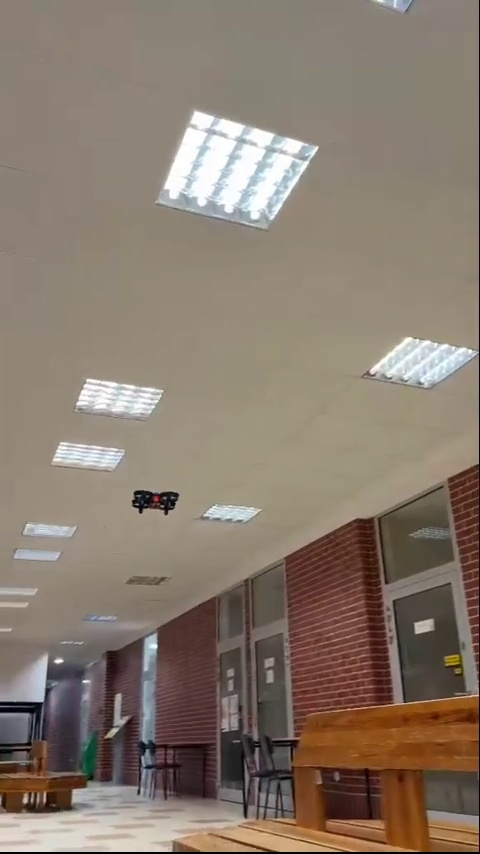drone: (128, 488, 184, 519)
